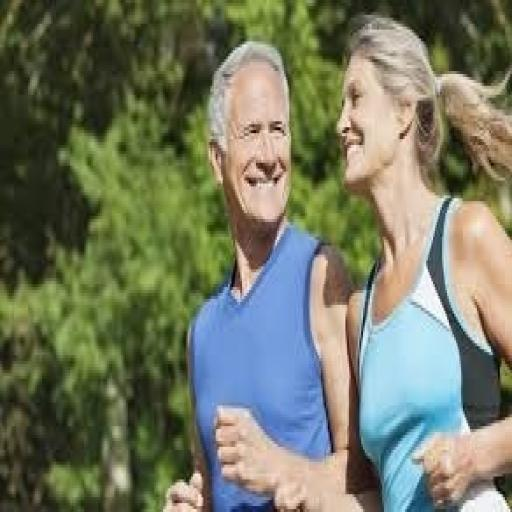running: (161, 36, 356, 509)
